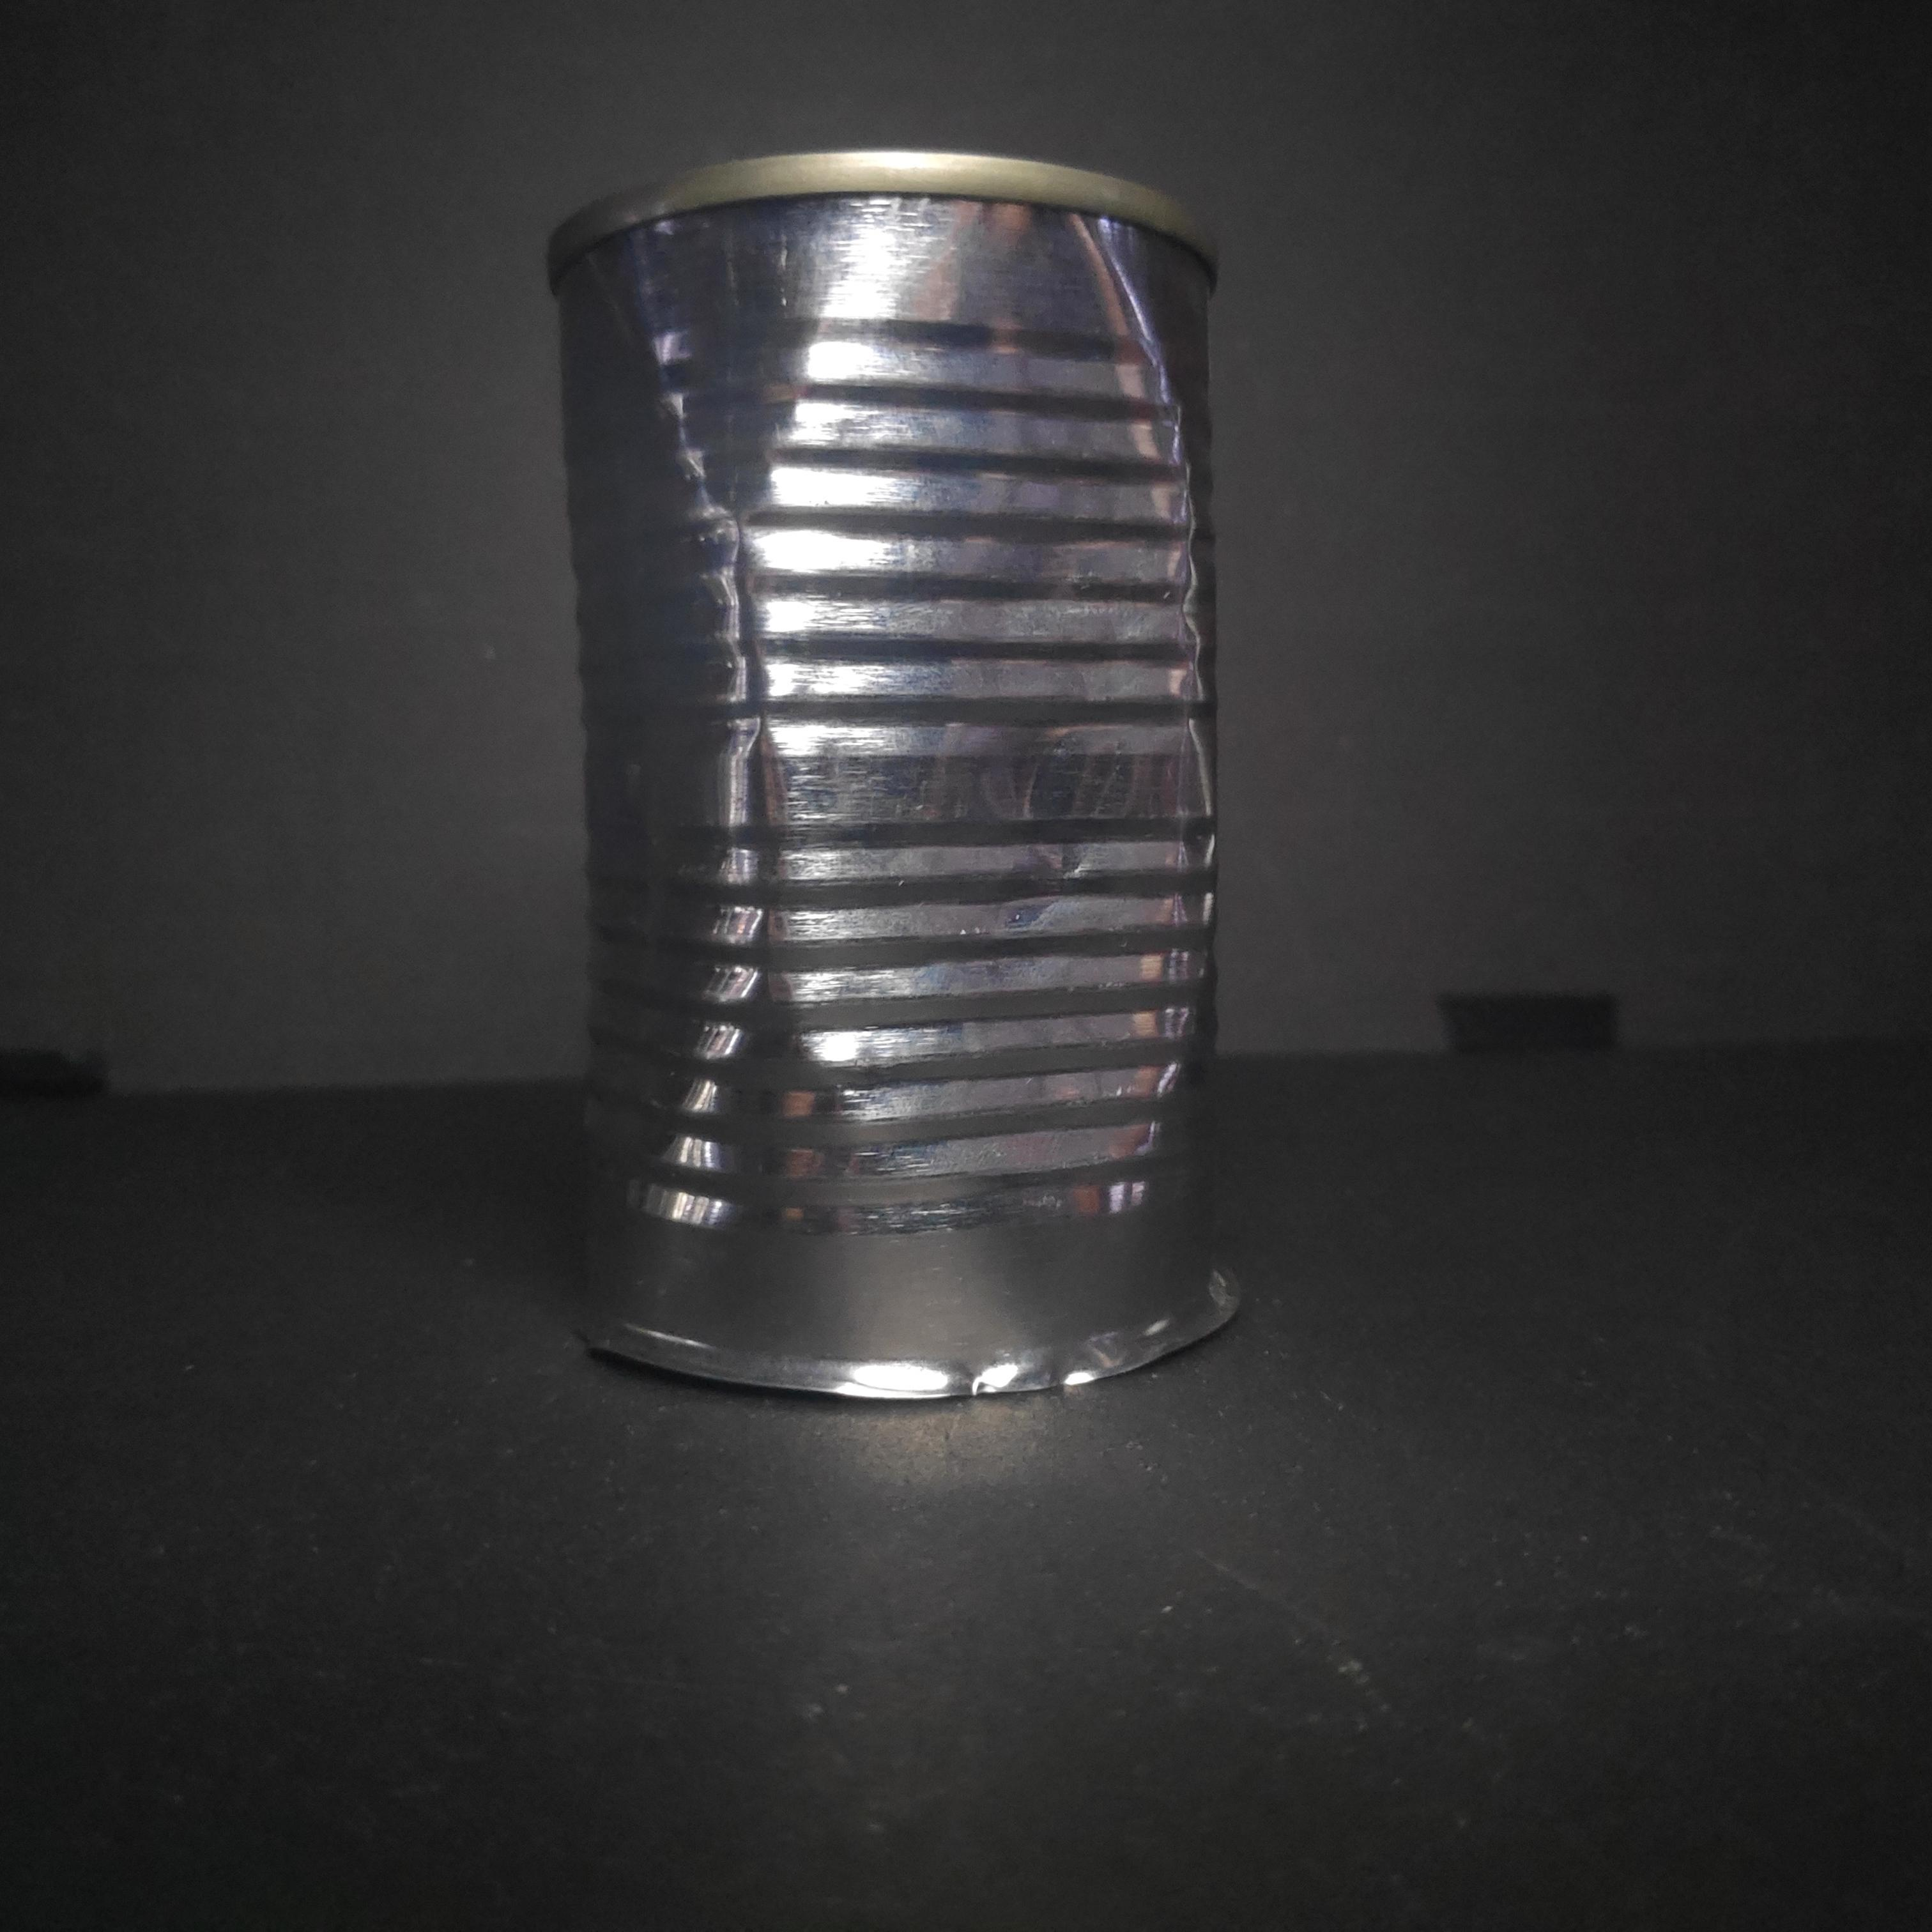Dented: (531, 131, 1272, 1419)
